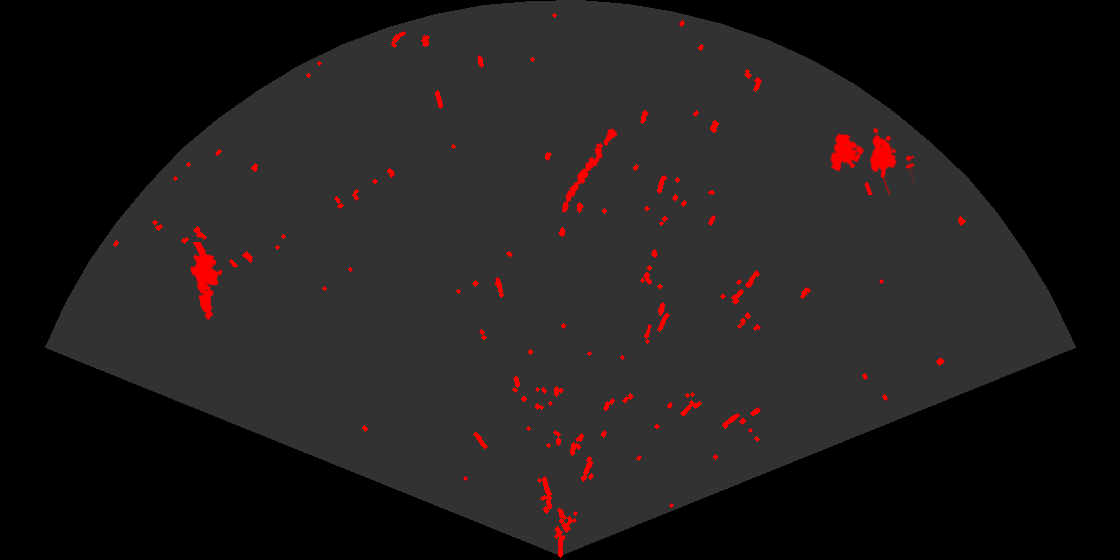cage: (829, 126, 914, 195)
chain: (560, 127, 619, 214)
frogman: (189, 242, 224, 321)
